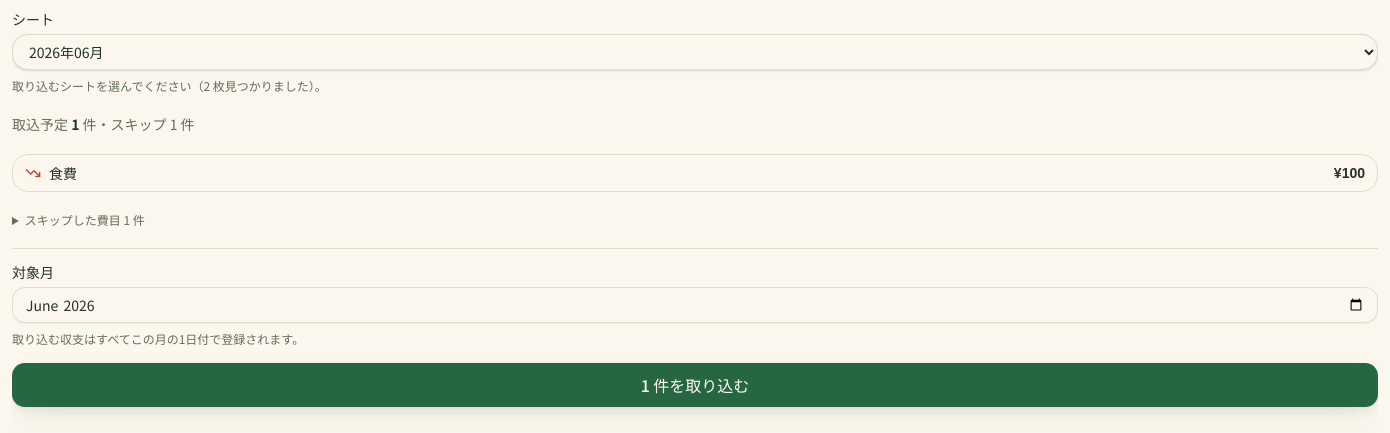
Test: ImportResult（シート選択） › シートを切り替えると対象月と内容が切り替わる
This screenshot has width=1390, height=433.
Expected: the text "食費" is shown, [25,163,77,183]
Expected: the field labelled "対象月" holds "2026-06", [12,287,1378,323]
Select "2026年07月" in the dropdown labelled "シート": point(695, 52) [12,34,1378,70]
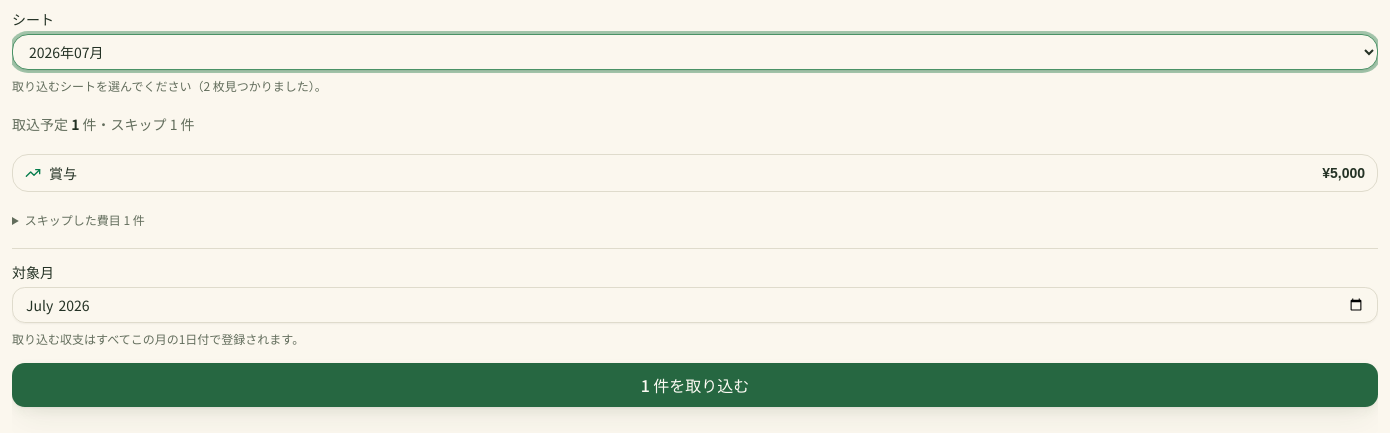
Expected: the text "賞与" is shown, [25,163,77,183]
Expected: the field labelled "対象月" holds "2026-07", [12,287,1378,323]
